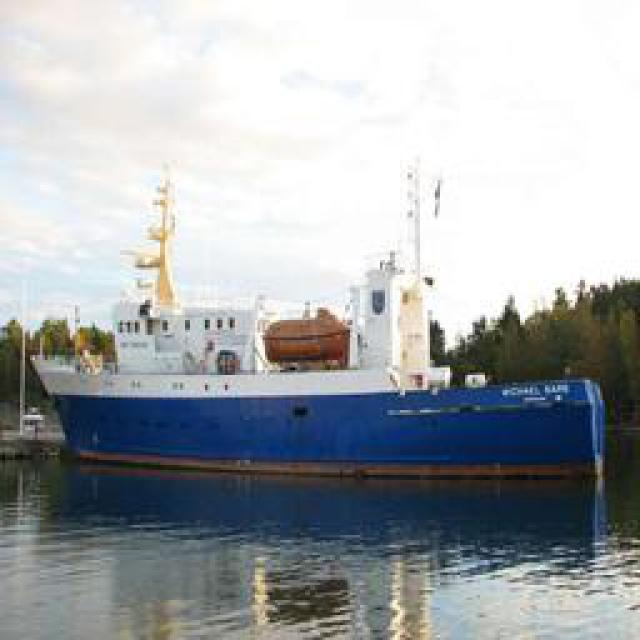Ship: (30, 278, 615, 476)
